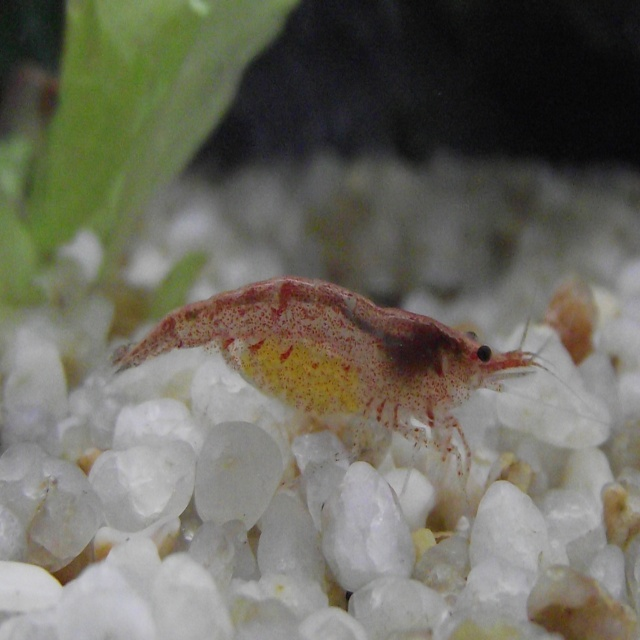Shrimp: (116, 273, 612, 503)
